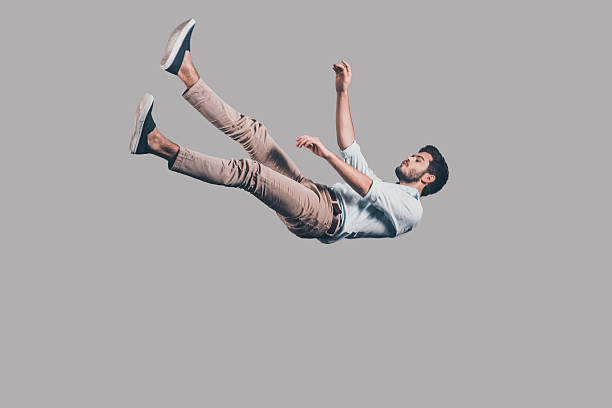without mask: (390, 139, 451, 192)
